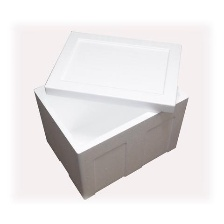foam_box: (25, 25, 195, 202)
